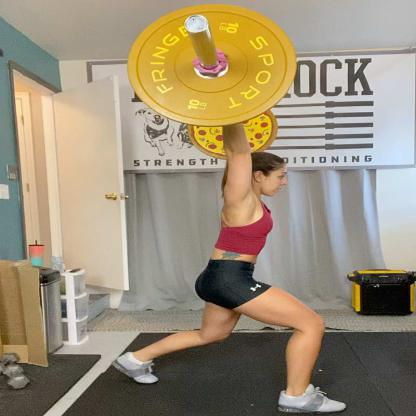Barbell: (120, 1, 301, 131)
